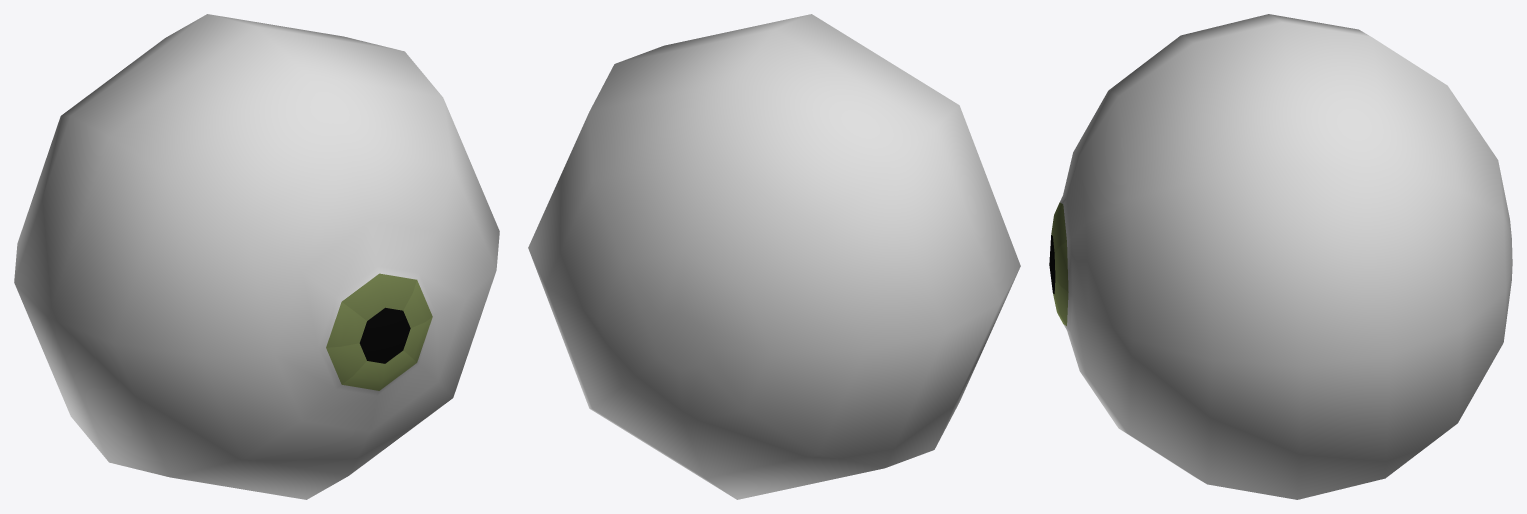
File: EyeTest.fbx
The picture shows the model from 3 angles, left to right: view 1: azimuth 30°, elevation 25°; view 2: azimuth 150°, elevation 25°; view 3: azimuth 270°, elevation 25°; orthographic projection. The views are drawn at different scales.
Parts seen in each view (by area): view 1: eyeBall1Lf1; view 2: eyeBall1Lf1; view 3: eyeBall1Lf1.
Part boxes in pixels (x1,y1,x2,y2): eyeBall1Lf1: [14, 14, 499, 499]; eyeBall1Lf1: [528, 14, 1020, 499]; eyeBall1Lf1: [1049, 14, 1512, 499].
Size of the model in its own units: 0.4117 by 0.413 by 0.3696.
